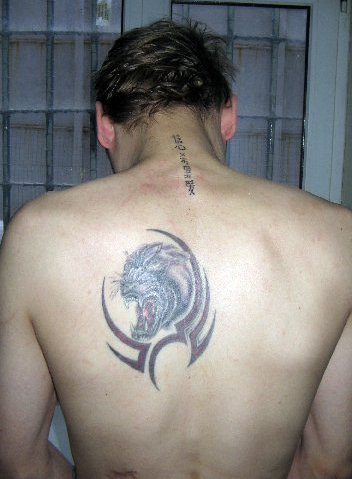tatu5_tigr: (108, 241, 197, 343)
